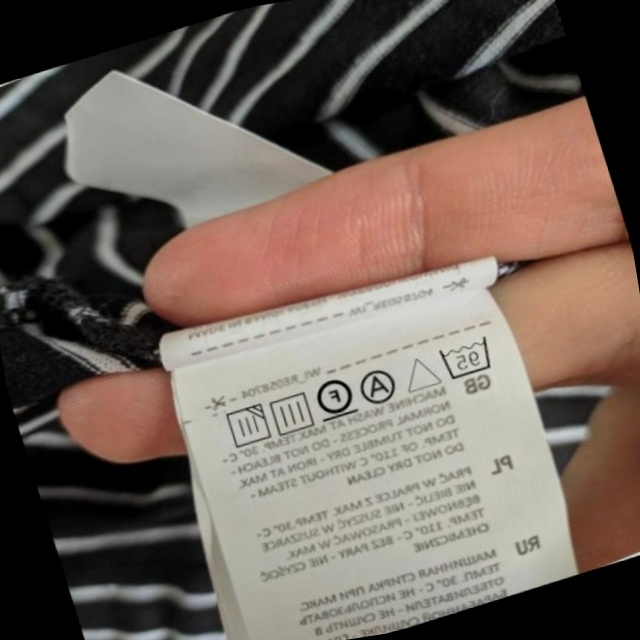95C: (433, 331, 499, 384)
bleach: (398, 347, 443, 397)
drip_dry: (264, 386, 319, 439)
drip_dry_in_shade: (218, 399, 274, 455)
dry_clean: (355, 363, 403, 409)
dry_clean_petrol_only: (309, 370, 359, 425)
